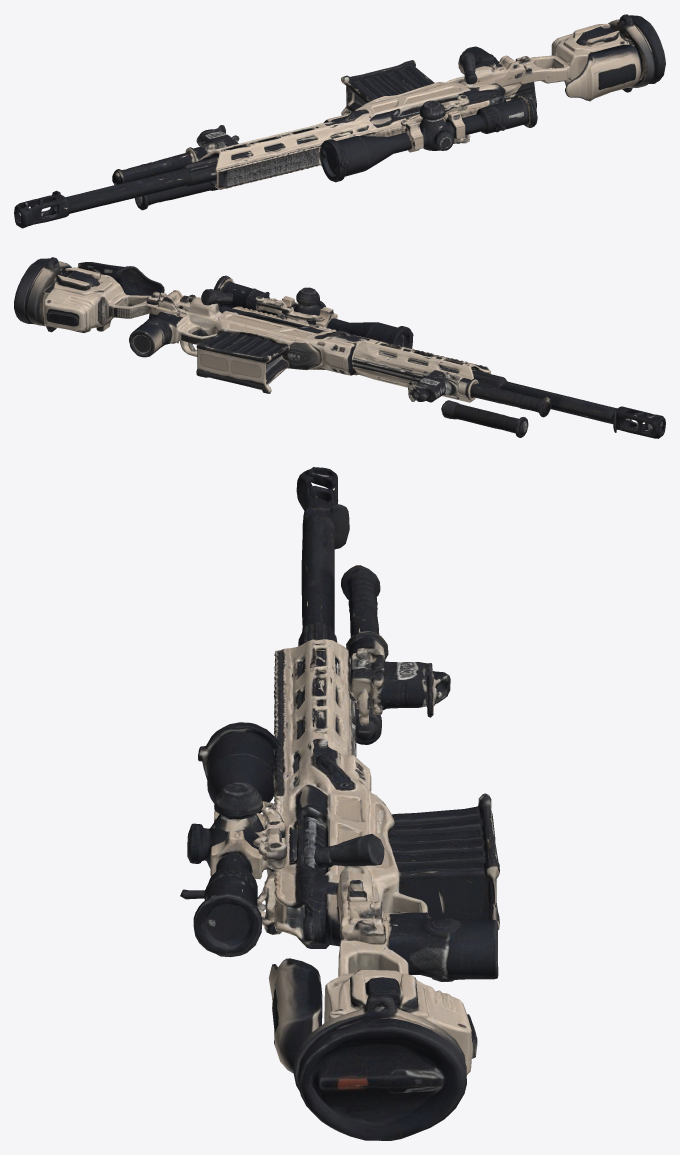
Rendered from marksman-new.glb.
The picture shows the model from 3 angles, top to bottom: view 1: azimuth 30°, elevation 25°; view 2: azimuth 150°, elevation 25°; view 3: azimuth 270°, elevation 25°; orthographic projection. The views are drawn at different scales.
Size of the model in its own units: 1.9 by 0.23 by 0.4302.
Materials: 1 (1 with a texture image).
